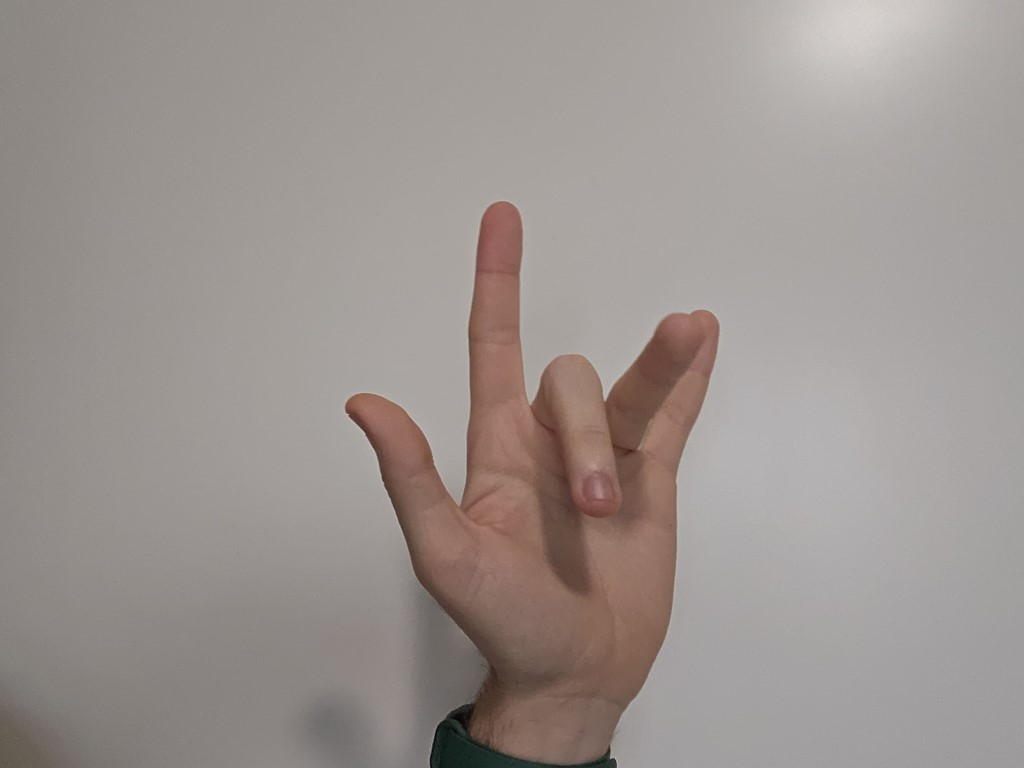reset: (314, 163, 789, 705)
